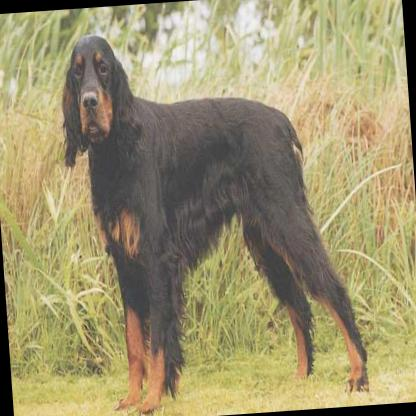Gordon_setter: (50, 9, 374, 416)
